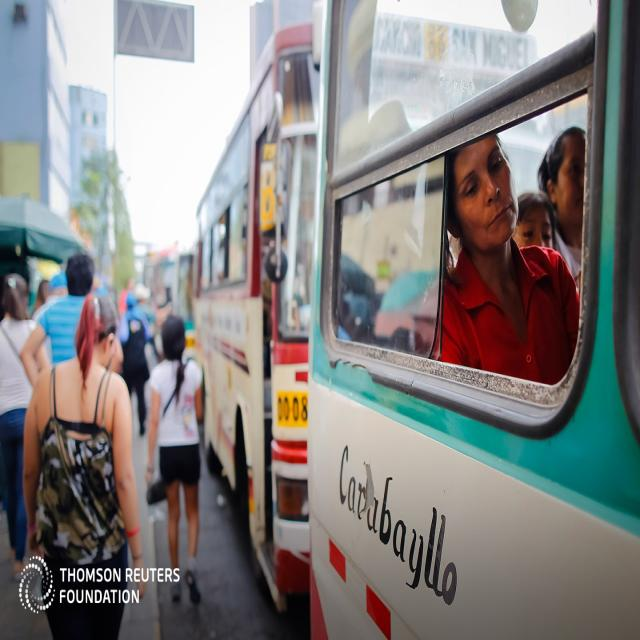body: (23, 294, 149, 640), (435, 128, 587, 385), (142, 314, 206, 608), (0, 271, 52, 584), (349, 92, 417, 326), (19, 251, 126, 393), (510, 120, 590, 275), (113, 292, 153, 439), (24, 260, 67, 322), (134, 281, 177, 341)
